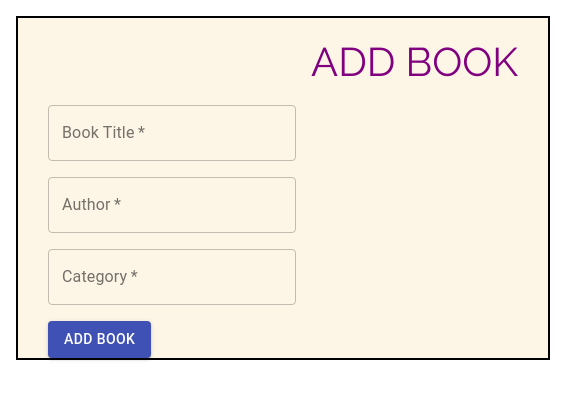
Test: Test Add book page. › click on 'Add Book' button in the above error state, check for error
Click the button with test id "addBook" at (100, 339), box [48, 321, 151, 358]
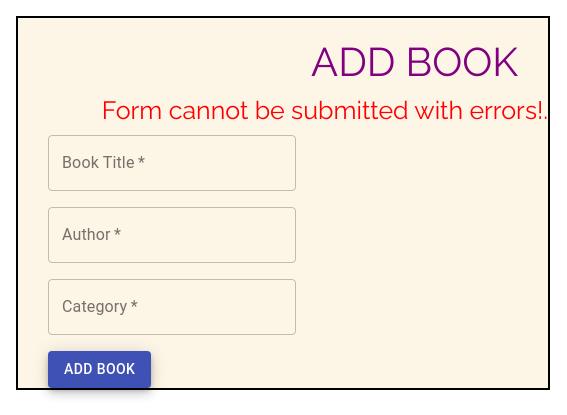
Expected: the text "Form cannot be submitted with errors!." is shown, [48, 95, 548, 125]
